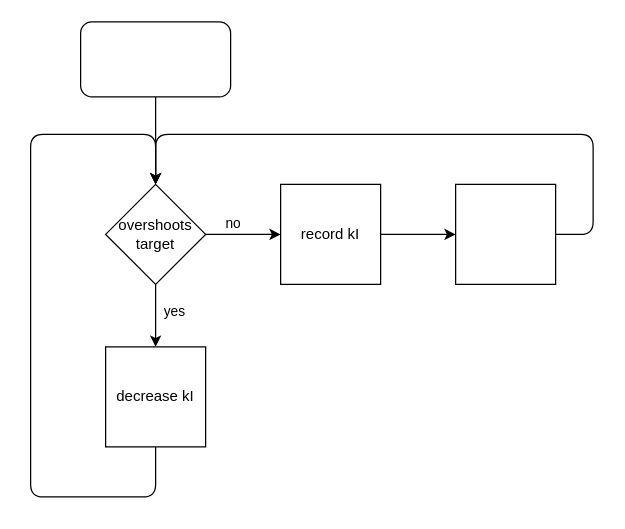
Image size: 625x529. Some labels were removed from this diagram. The shapes that lost their labels are listed below. From the top down, each one's box as (x1, y1, x2, y2) in pixels, then its label:
(79, 21, 231, 97): start
(454, 183, 556, 284): increase kI
